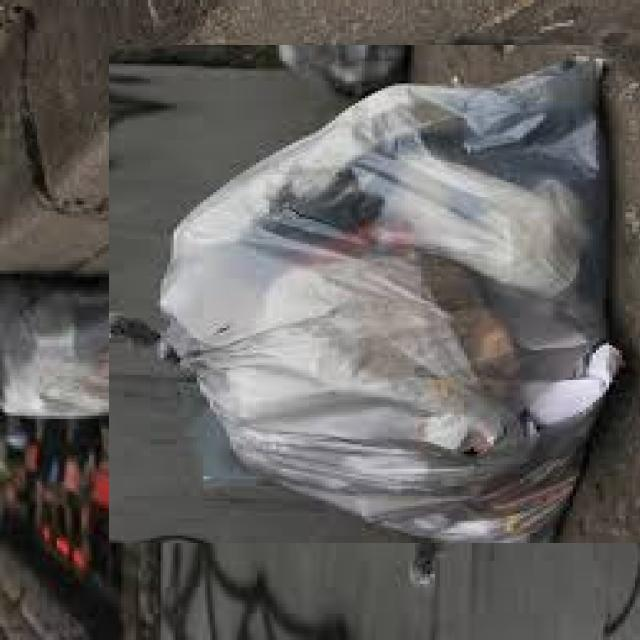garbage: (125, 29, 640, 560)
